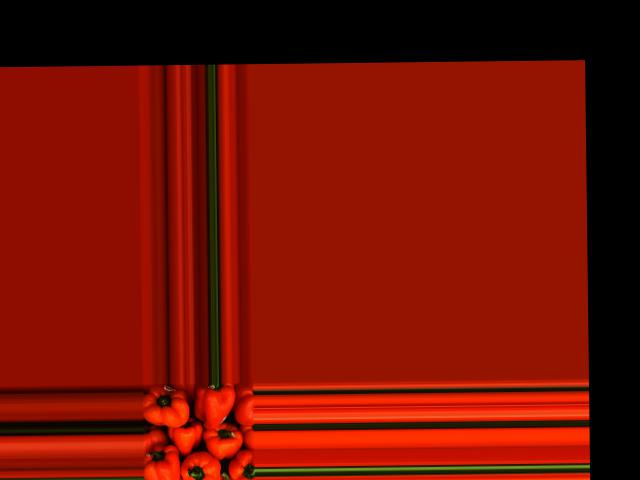bell_pepper: (234, 382, 253, 426)
